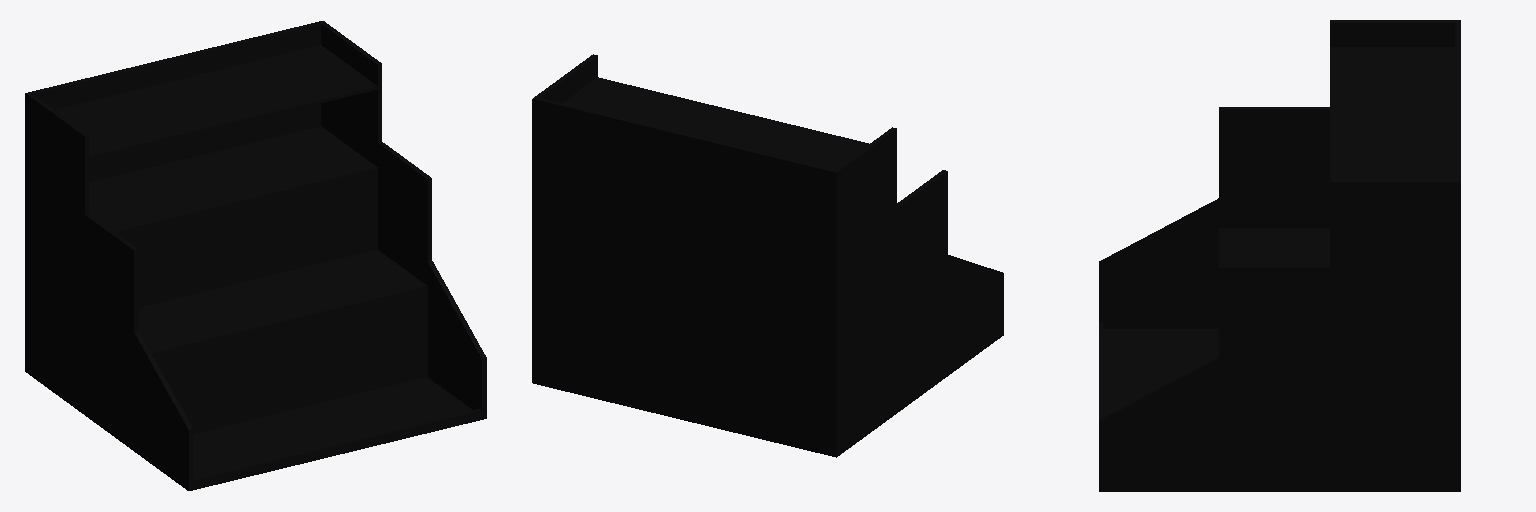
robot.urdf — nova_environment_object_0310:
<?xml version="1.0" encoding="utf-8"?>
<!-- Nova movable environment body for the bundled PyBullet launcher. SI metres/kg/radians. Loaded at its body origin; hinge/slider bodies use a fixed world_anchor base with one passive joint. Inertia is about COM. -->
<robot name="nova_environment_object_0310">
  <link name="body">
    <inertial>
      <origin xyz="0 0.03 0.13" rpy="0 0 0" />
      <mass value="1.1" />
      <inertia ixx="0.0224766667" iyy="0.0238333333" izz="0.0251166667" ixy="0" ixz="0" iyz="0" />
    </inertial>
    <visual>
      <origin xyz="0 0 0" rpy="0 0 0" />
      <geometry>
        <mesh filename="object_0310.obj" />
      </geometry>
      <material name="surface">
        <color rgba="0.08 0.08 0.08 1" />
      </material>
    </visual>
    <collision>
      <origin xyz="0 0 0" rpy="0 0 0" />
      <geometry>
        <mesh filename="object_0310_collision_00.obj" />
      </geometry>
    </collision>
    <collision>
      <origin xyz="0 0 0" rpy="0 0 0" />
      <geometry>
        <mesh filename="object_0310_collision_01.obj" />
      </geometry>
    </collision>
    <collision>
      <origin xyz="0 0 0" rpy="0 0 0" />
      <geometry>
        <mesh filename="object_0310_collision_02.obj" />
      </geometry>
    </collision>
    <collision>
      <origin xyz="0 0 0" rpy="0 0 0" />
      <geometry>
        <mesh filename="object_0310_collision_03.obj" />
      </geometry>
    </collision>
    <collision>
      <origin xyz="0 0 0" rpy="0 0 0" />
      <geometry>
        <mesh filename="object_0310_collision_04.obj" />
      </geometry>
    </collision>
    <collision>
      <origin xyz="0 0 0" rpy="0 0 0" />
      <geometry>
        <mesh filename="object_0310_collision_05.obj" />
      </geometry>
    </collision>
    <collision>
      <origin xyz="0 0 0" rpy="0 0 0" />
      <geometry>
        <mesh filename="object_0310_collision_06.obj" />
      </geometry>
    </collision>
    <collision>
      <origin xyz="0 0 0" rpy="0 0 0" />
      <geometry>
        <mesh filename="object_0310_collision_07.obj" />
      </geometry>
    </collision>
    <collision>
      <origin xyz="0 0 0" rpy="0 0 0" />
      <geometry>
        <mesh filename="object_0310_collision_08.obj" />
      </geometry>
    </collision>
    <collision>
      <origin xyz="0 0 0" rpy="0 0 0" />
      <geometry>
        <mesh filename="object_0310_collision_09.obj" />
      </geometry>
    </collision>
    <collision>
      <origin xyz="0 0 0" rpy="0 0 0" />
      <geometry>
        <mesh filename="object_0310_collision_10.obj" />
      </geometry>
    </collision>
    <collision>
      <origin xyz="0 0 0" rpy="0 0 0" />
      <geometry>
        <mesh filename="object_0310_collision_11.obj" />
      </geometry>
    </collision>
    <collision>
      <origin xyz="0 0 0" rpy="0 0 0" />
      <geometry>
        <mesh filename="object_0310_collision_12.obj" />
      </geometry>
    </collision>
    <collision>
      <origin xyz="0 0 0" rpy="0 0 0" />
      <geometry>
        <mesh filename="object_0310_collision_13.obj" />
      </geometry>
    </collision>
  </link>
</robot>

--- Render facts (derived) ---
The picture shows the robot from 3 angles, left to right: view 1: azimuth 30°, elevation 25°; view 2: azimuth 150°, elevation 25°; view 3: azimuth 270°, elevation 25°; orthographic projection.
Robot: nova_environment_object_0310 — 1 links, 0 joints (none); root link body; default pose: every joint at zero.
Links seen in each view (by area): view 1: body; view 2: body; view 3: body.
Boxes of the visible links, x1=… form: body: x1=25, y1=21, x2=486, y2=490; body: x1=532, y1=54, x2=1003, y2=457; body: x1=1099, y1=20, x2=1460, y2=491.
Size in the robot's own frame: 0.38 by 0.361 by 0.34 metres.
1 mesh visuals loaded from 1 distinct referenced files (1 OBJ).
